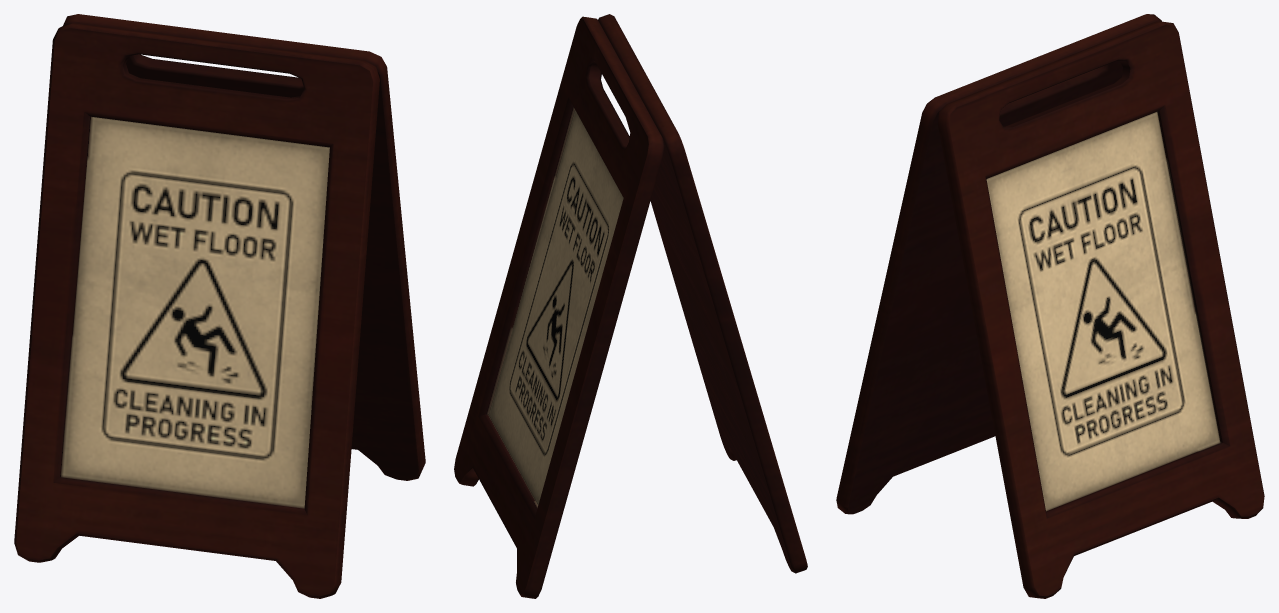
File: WetFloorBoard.glb
3 views of the same model, side by side, from view 1: azimuth 30°, elevation 25°; view 2: azimuth 150°, elevation 25°; view 3: azimuth 270°, elevation 25° (orthographic). The views are drawn at different scales.
Parts seen in each view (by area): view 1: Object_20; view 2: Object_20; view 3: Object_20.
Boxes of the visible parts, x1,y1,x2,y2 form: Object_20: [14, 14, 425, 598]; Object_20: [454, 14, 807, 598]; Object_20: [836, 14, 1264, 598].
Size of the model in its own units: 5.7 by 6.71 by 5.72.
1 material, 1 textured.
